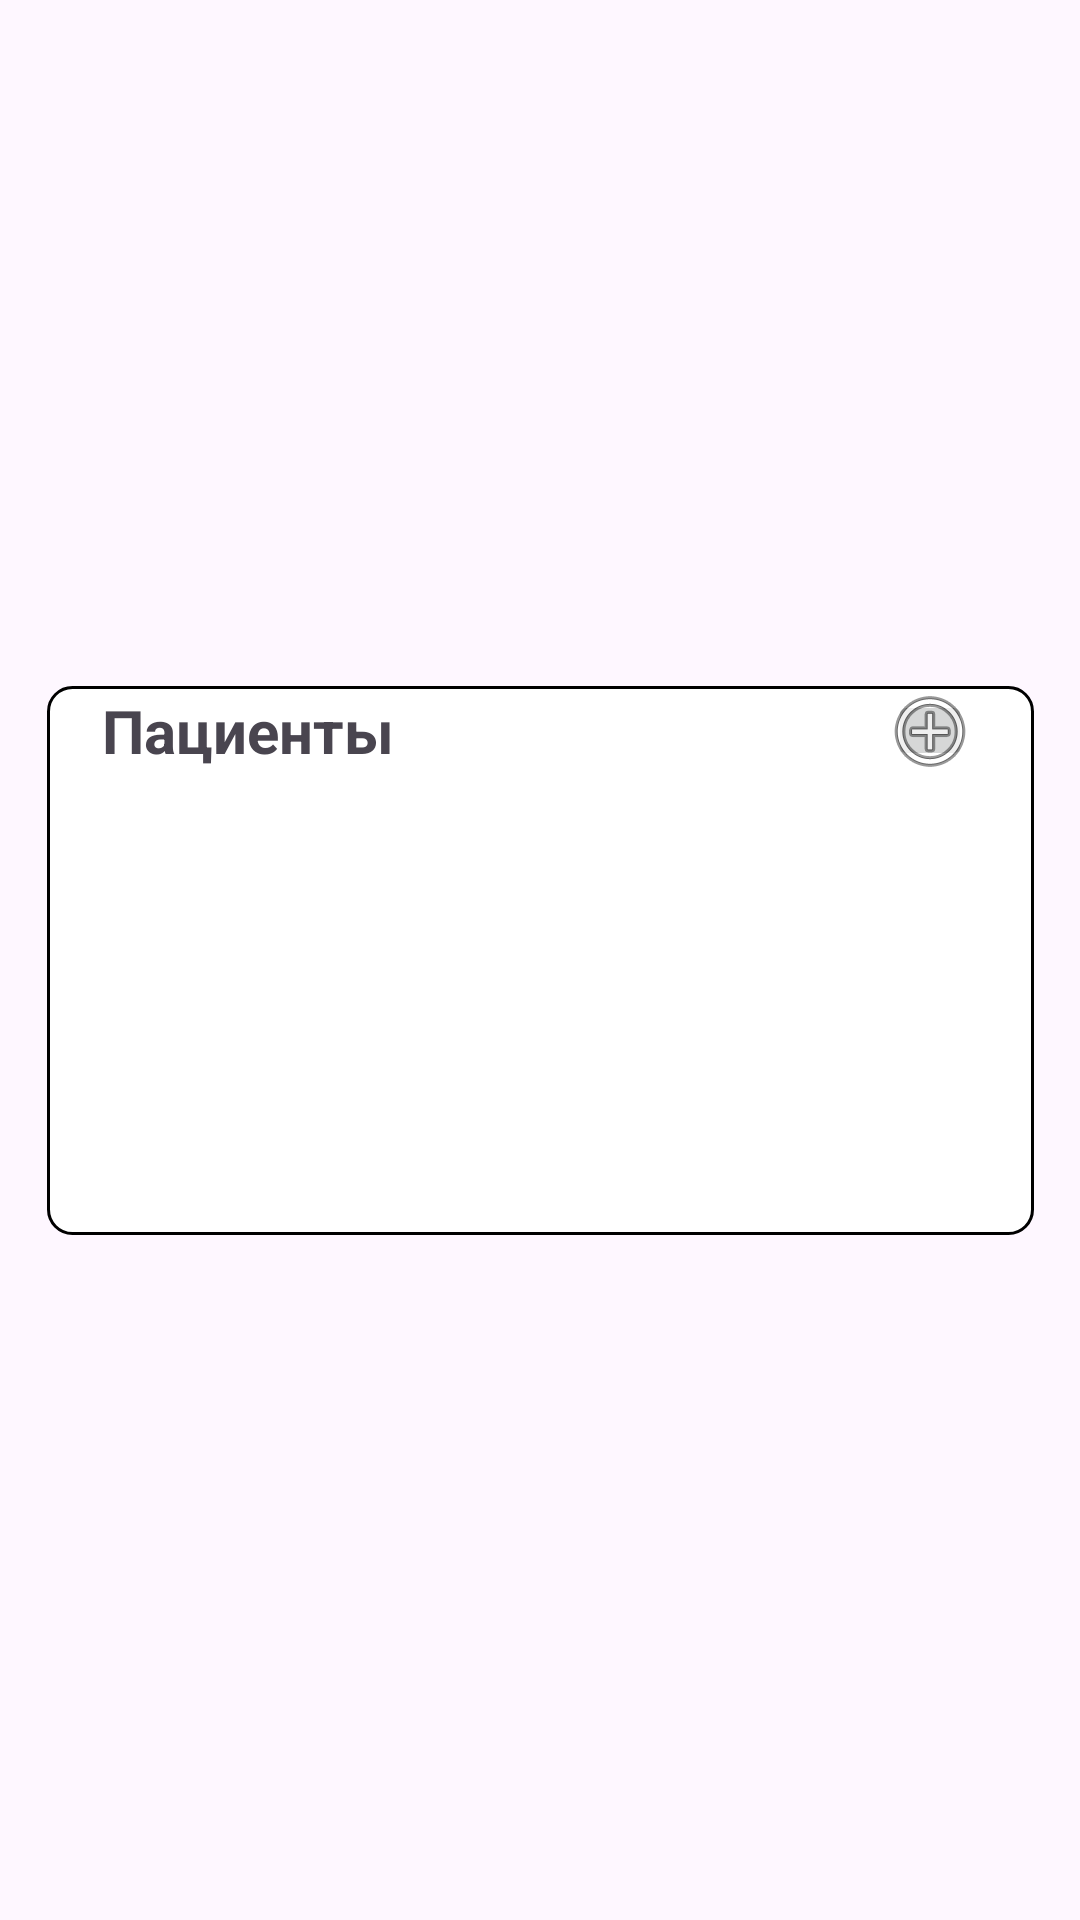

Icon bounding boxes for this 1080 x 1920 phone screenshot, format (x1, y1, x2, y2):
add: (894, 696, 966, 767)
